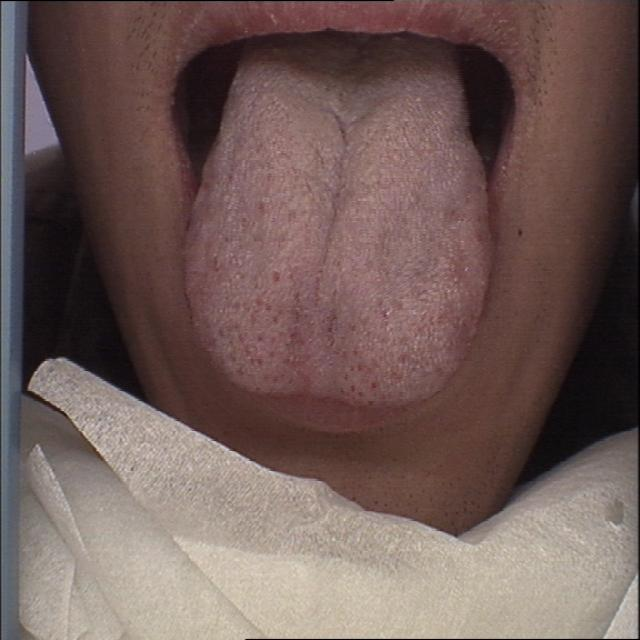tongue: (178, 61, 506, 418)
